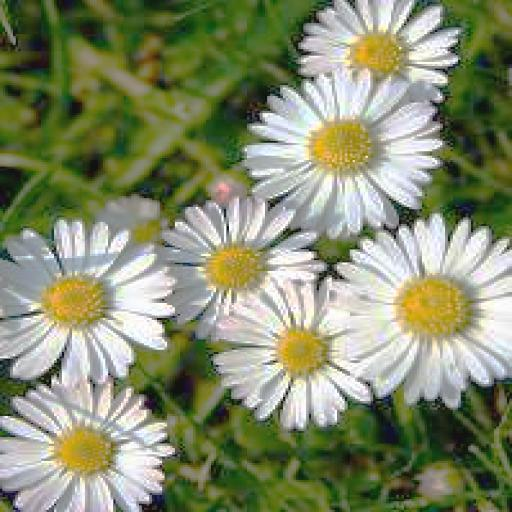daisy: (334, 228, 512, 390), (250, 75, 432, 222), (154, 203, 319, 339), (218, 280, 376, 422)
